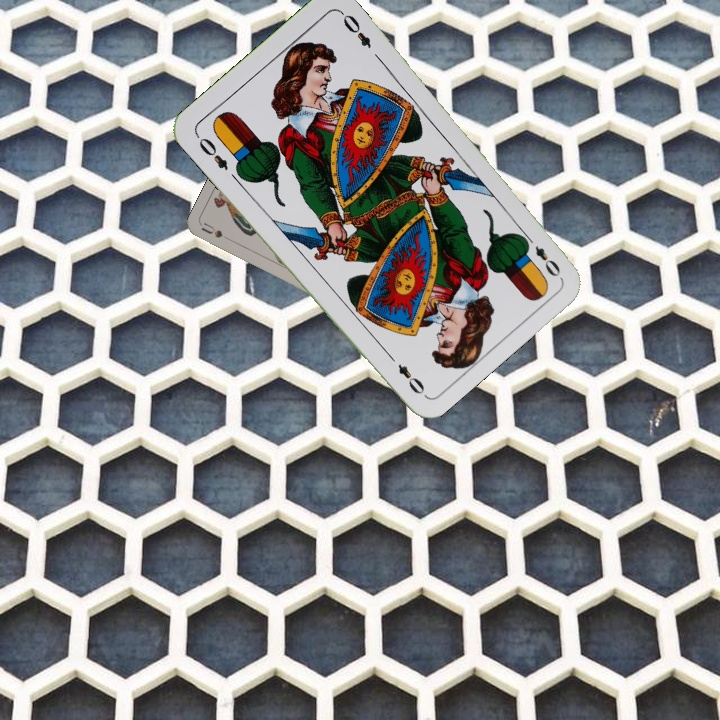EO: (519, 230, 563, 280), (192, 131, 231, 173)
SU: (198, 219, 238, 245)
